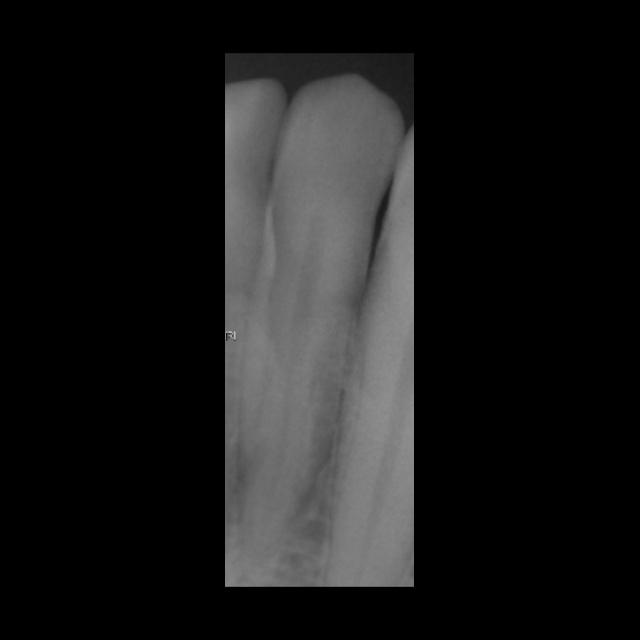tooth: (225, 74, 407, 584)
